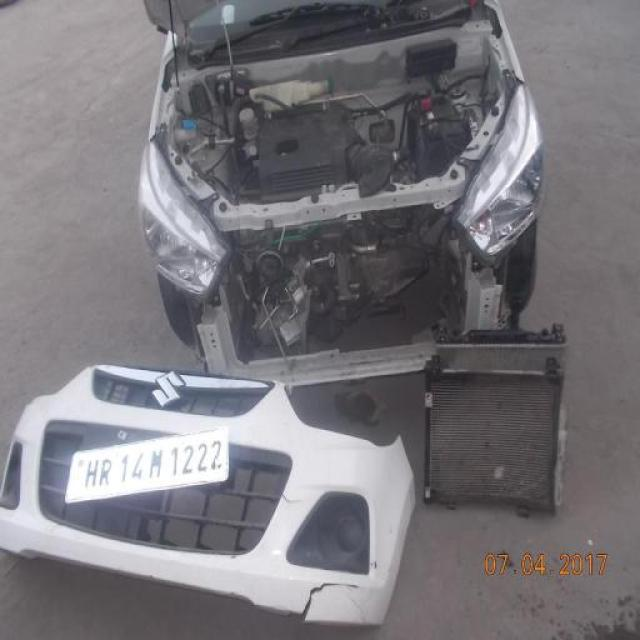crush: (158, 156, 537, 393)
